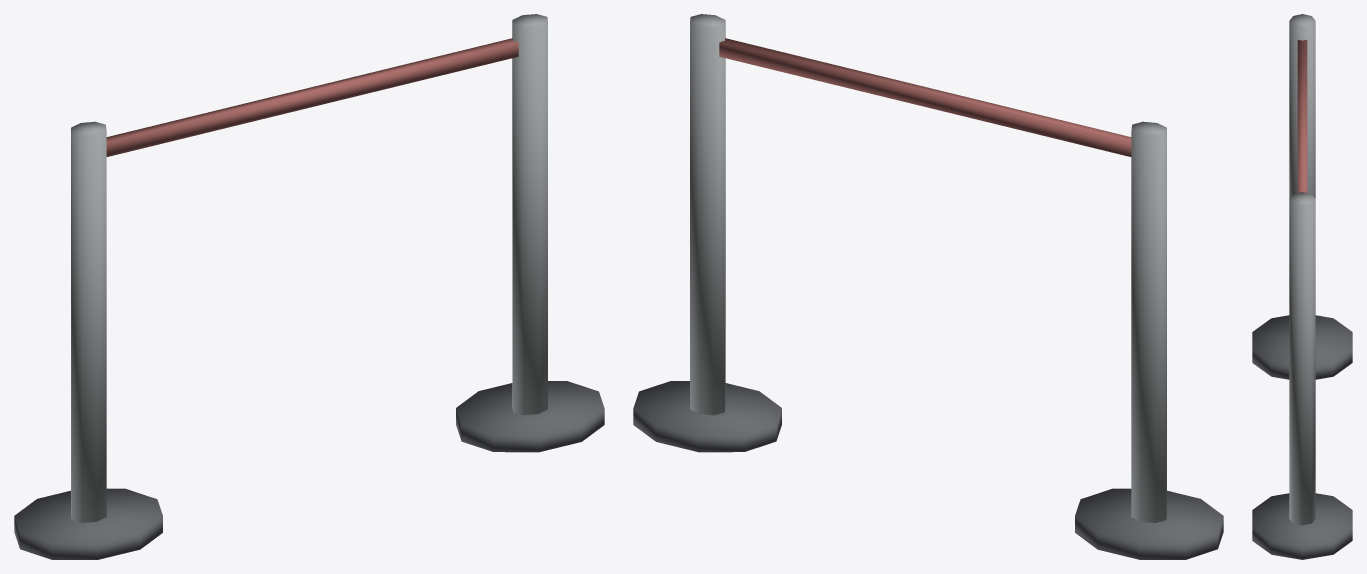
Rendered from queue_stanchion__wide.glb.
The picture shows the model from 3 angles, left to right: view 1: azimuth 30°, elevation 25°; view 2: azimuth 150°, elevation 25°; view 3: azimuth 270°, elevation 25°; orthographic projection. The views are drawn at different scales.
Visible parts, largest first — view 1: world; view 2: world; view 3: world.
Boxes of the visible parts, box(x1,y1,x2,y2) form: world: box(14, 14, 604, 559); world: box(633, 14, 1223, 559); world: box(1252, 14, 1352, 559).
Size of the model in its own units: 1.46 by 0.975 by 0.2663.
